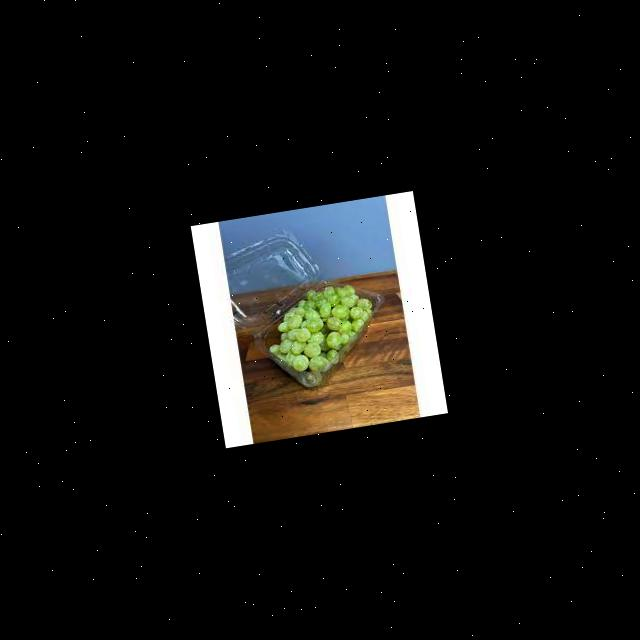grape: (260, 278, 382, 381)
